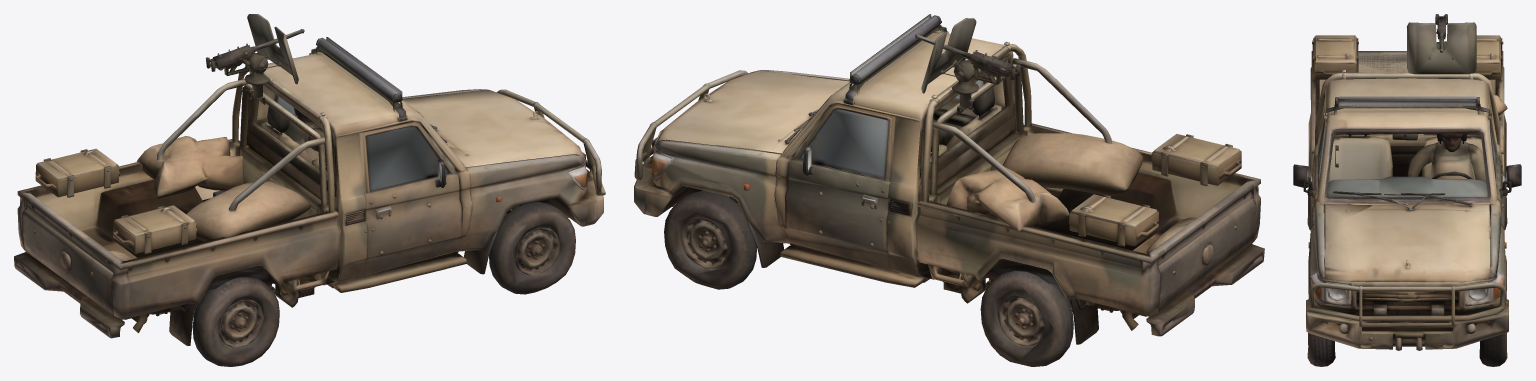
File: bantai.glb
The picture shows the model from 3 angles, left to right: view 1: azimuth 30°, elevation 25°; view 2: azimuth 150°, elevation 25°; view 3: azimuth 270°, elevation 25°; orthographic projection. The views are drawn at different scales.
Parts seen in each view (by area): view 1: tripo_node_9fa15ee3-09dc-4cf1-8eda-f9cc61b7b134; view 2: tripo_node_9fa15ee3-09dc-4cf1-8eda-f9cc61b7b134; view 3: tripo_node_9fa15ee3-09dc-4cf1-8eda-f9cc61b7b134.
Boxes of the visible parts, x1,y1,x2,y2 form: tripo_node_9fa15ee3-09dc-4cf1-8eda-f9cc61b7b134: [14, 14, 605, 366]; tripo_node_9fa15ee3-09dc-4cf1-8eda-f9cc61b7b134: [634, 14, 1264, 366]; tripo_node_9fa15ee3-09dc-4cf1-8eda-f9cc61b7b134: [1293, 14, 1521, 366].
Size of the model in its own units: 0.9995 by 0.5024 by 0.4155.
Materials: 1 (1 with a texture image).
